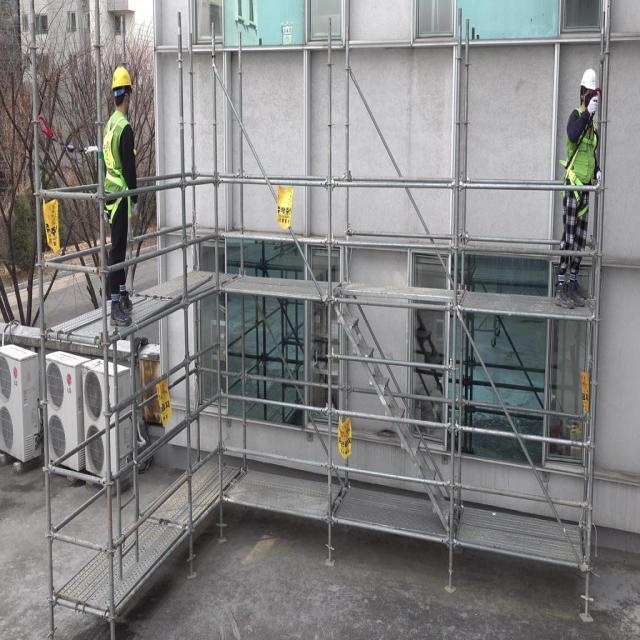Arnes_seguridad: (103, 111, 131, 224), (566, 106, 594, 216)
